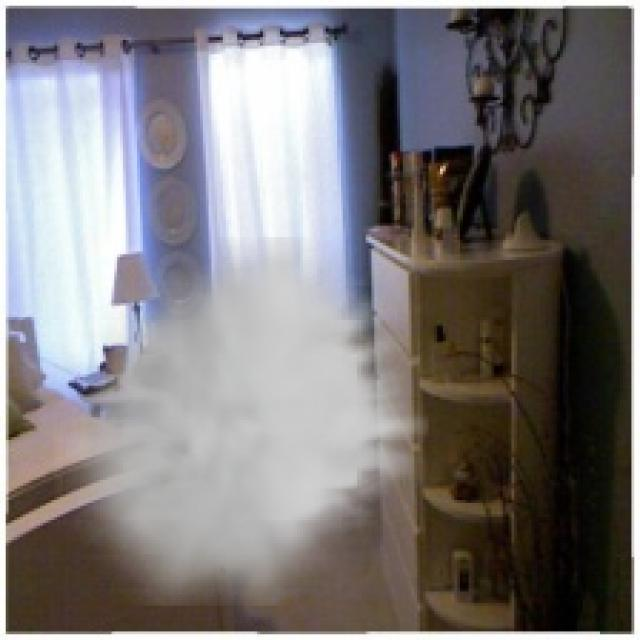Smoke: (54, 237, 429, 606)
